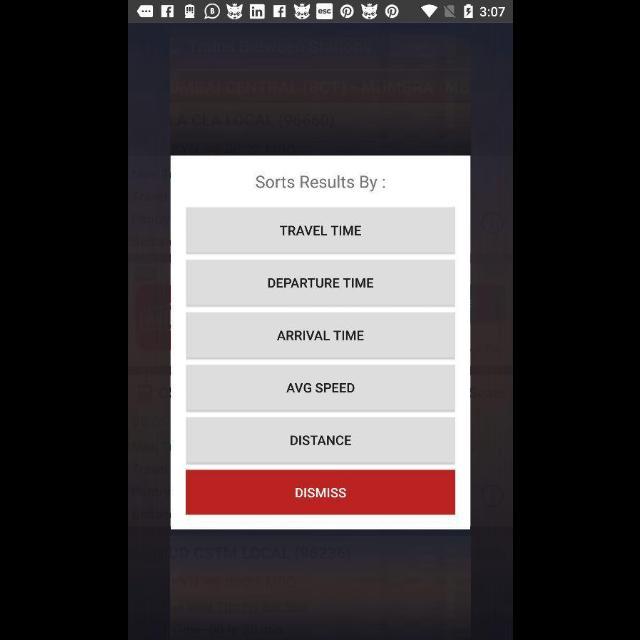panel: (171, 156, 469, 530)
text: (256, 175, 384, 192)
textbutton: (186, 365, 454, 413), (186, 312, 454, 360), (186, 418, 454, 464), (186, 260, 454, 306), (186, 208, 454, 254), (186, 470, 454, 514)
uppertaskbar: (128, 1, 512, 23)
